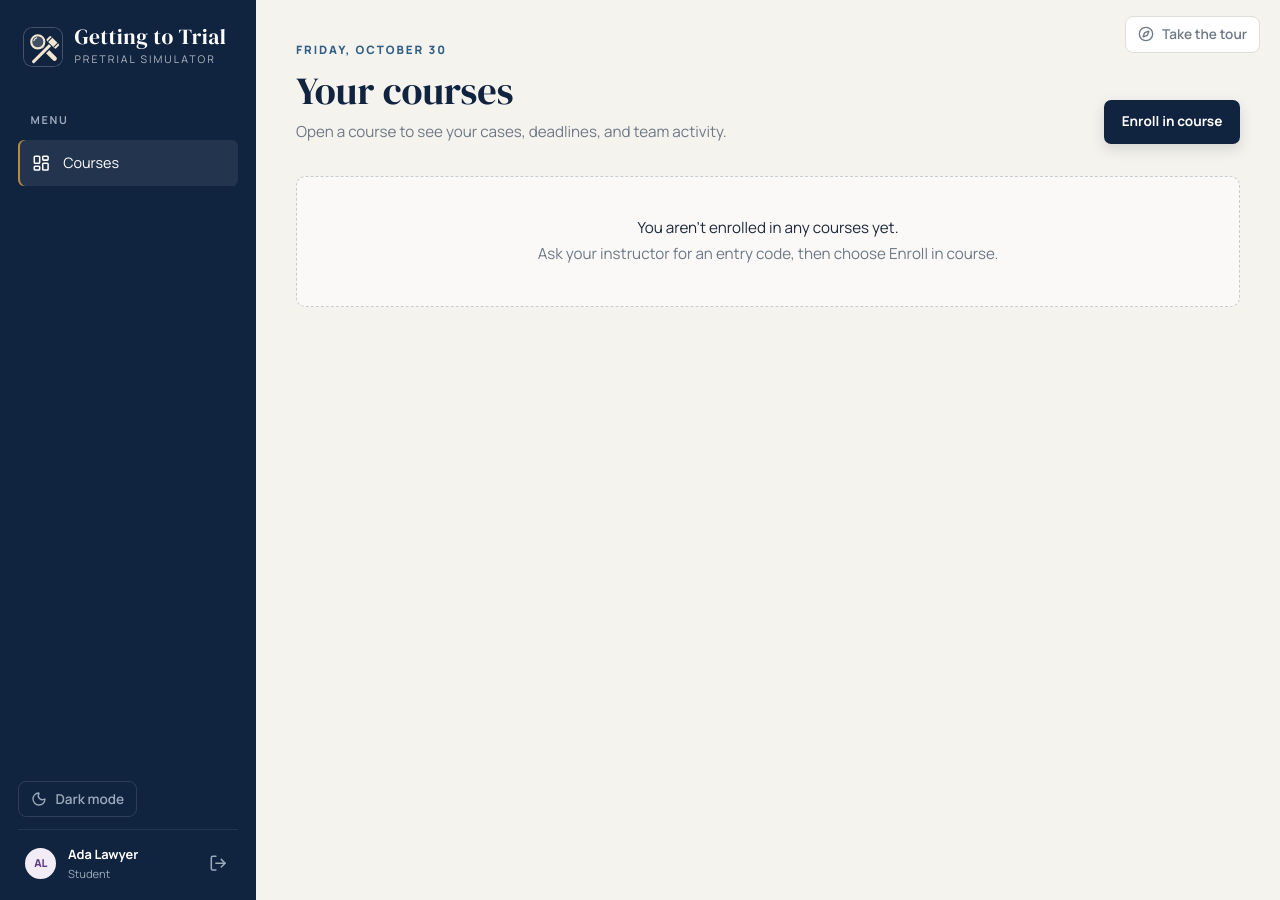
Test: log out › returns to the login form
This screenshot has width=1280, height=900.
Expected: the heading "Your courses" is shown, x1=296 y1=64 x2=514 y2=117
Click the button named "Log out" at {"x": 218, "y": 864}, box x1=203 y1=849 x2=233 y2=878
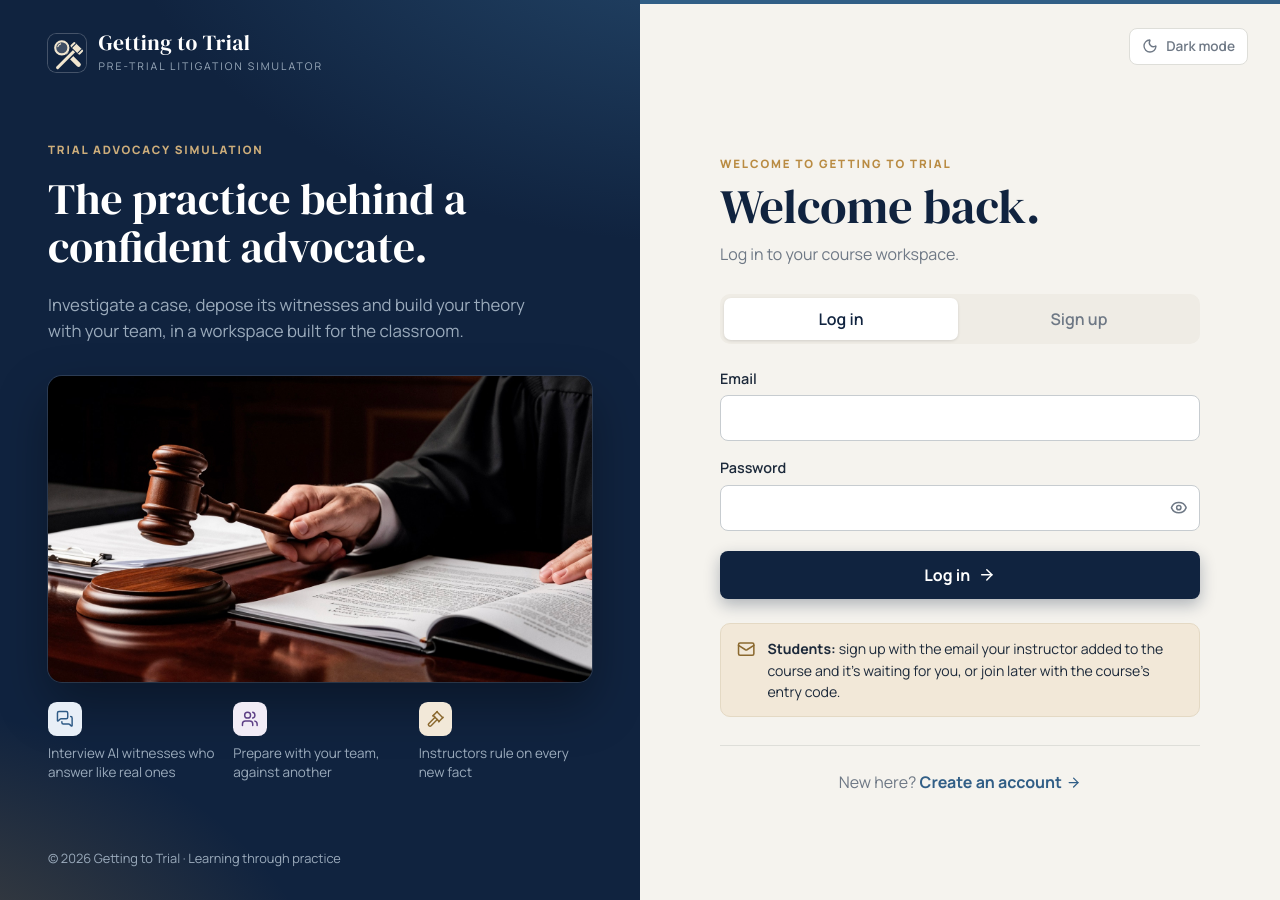
Result: the button "Log in" is shown at x1=720 y1=551 x2=1200 y2=599
